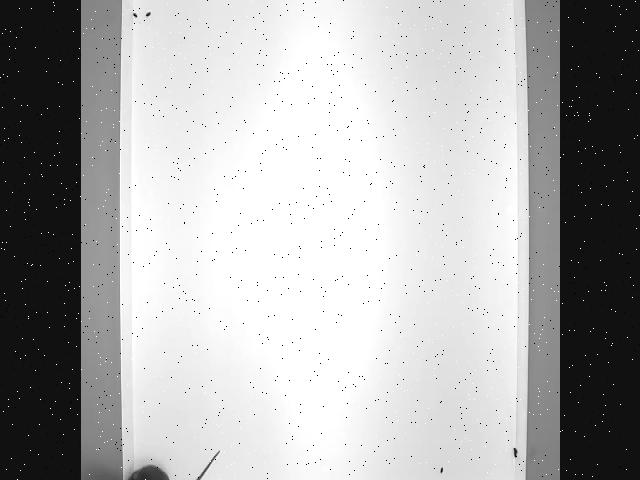Tikus: (119, 437, 224, 480)
